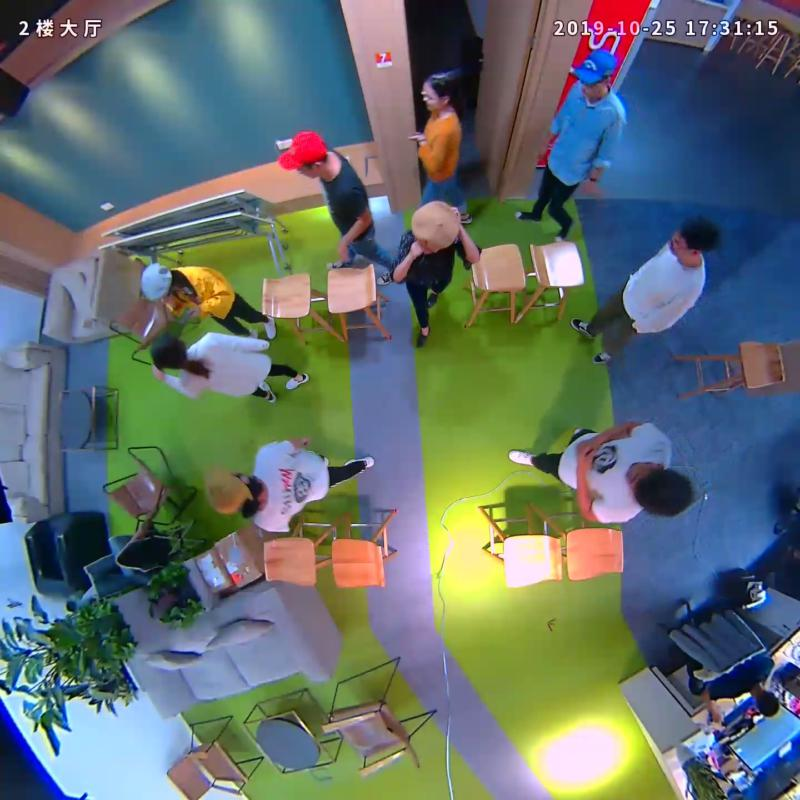head: (627, 462, 693, 519), (202, 467, 260, 515), (410, 200, 461, 253), (276, 130, 330, 179), (570, 47, 617, 96), (669, 218, 719, 260), (139, 263, 185, 301), (421, 72, 454, 115), (149, 332, 186, 369)
